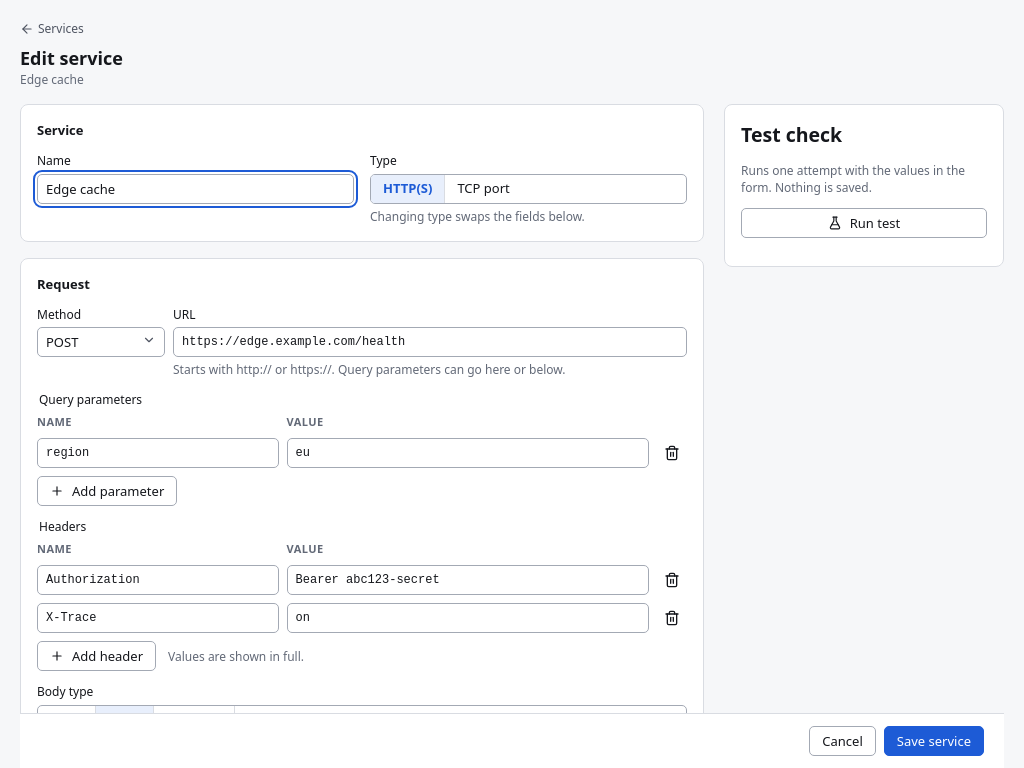
Test: what a test sends (FR-104) › sends exactly the check and the timeout of a full HTTP form, nothing else, and shows the result
Expected: the field labelled "Name" is shown, [37, 174, 354, 204]
Click the button "Run test".
click(864, 224)  # box [741, 208, 987, 238]
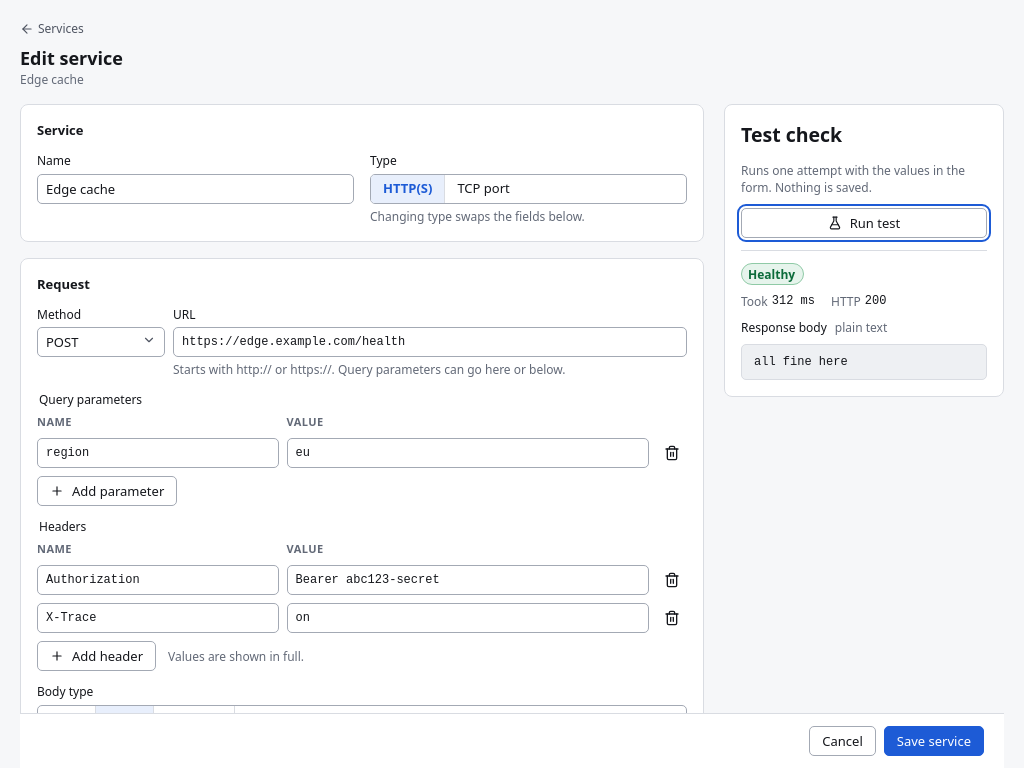
Expected: the text "Healthy" is shown, [741, 264, 804, 286]
Expected: the text "all fine here" is shown, [741, 344, 987, 380]
